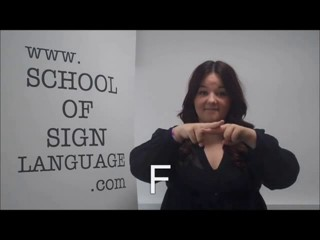F: (176, 117, 249, 150)
